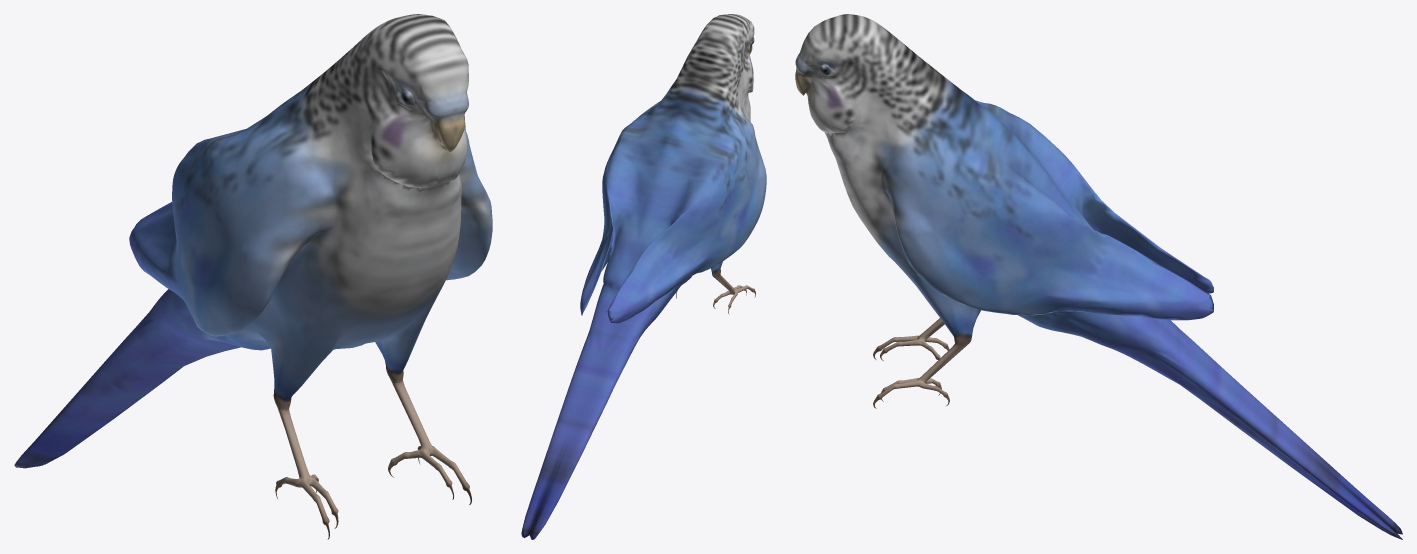
3 renders of one model, left to right at view 1: azimuth 30°, elevation 25°; view 2: azimuth 150°, elevation 25°; view 3: azimuth 270°, elevation 25°, orthographic. The views are drawn at different scales.
Visible parts, largest first — view 1: parakeet; view 2: parakeet; view 3: parakeet.
Boxes of the visible parts, box(x1,y1,x2,y2) form: parakeet: box(14, 14, 492, 539); parakeet: box(521, 14, 766, 539); parakeet: box(795, 14, 1402, 539).
Bounding box in the file's own units: 1.41 × 3.88 × 4.13.
Materials: 1 (1 with a texture image).
